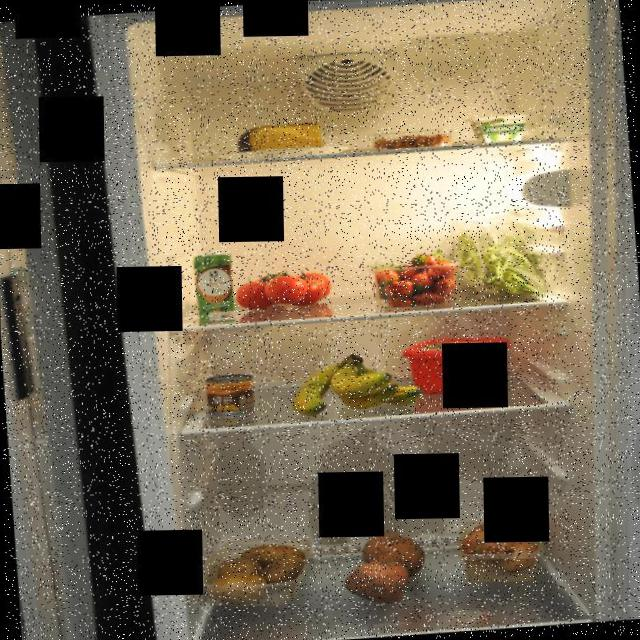Cebolla: (455, 506, 546, 587)
Gambas/Langostinos: (369, 132, 457, 154)
Mantequilla: (399, 332, 516, 400)
Patata: (206, 538, 310, 606)
Plátano: (288, 346, 426, 416)
Queso: (232, 118, 330, 160), (462, 110, 536, 144)
Tomate: (232, 266, 338, 312)
corn: (203, 372, 256, 416)
green_beans: (450, 212, 550, 304)
heavy_cream: (192, 247, 236, 323)
strawberries: (366, 245, 466, 311)
sweet_potato: (332, 521, 436, 611)
